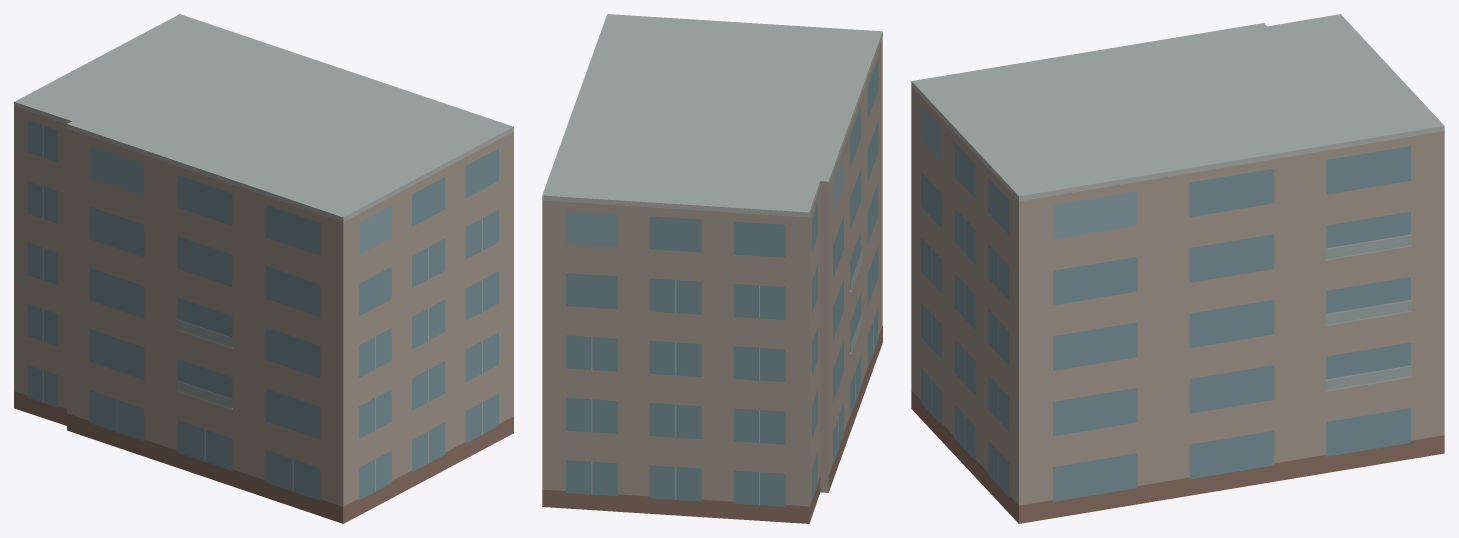
The model's file is survey-upis-32762745.glb.
The picture shows the model from 3 angles, left to right: view 1: azimuth 30°, elevation 25°; view 2: azimuth 150°, elevation 25°; view 3: azimuth 270°, elevation 25°; orthographic projection. The views are drawn at different scales.
Visible parts, largest first — view 1: survey-upis-32762745.tmp; view 2: survey-upis-32762745.tmp; view 3: survey-upis-32762745.tmp.
Part boxes in pixels (left/top/right/bottom): survey-upis-32762745.tmp: left=14, top=14, right=513, bottom=523; survey-upis-32762745.tmp: left=542, top=14, right=882, bottom=523; survey-upis-32762745.tmp: left=911, top=14, right=1444, bottom=523.
Size of the model in its own units: 18.14 by 15.2 by 22.43.
